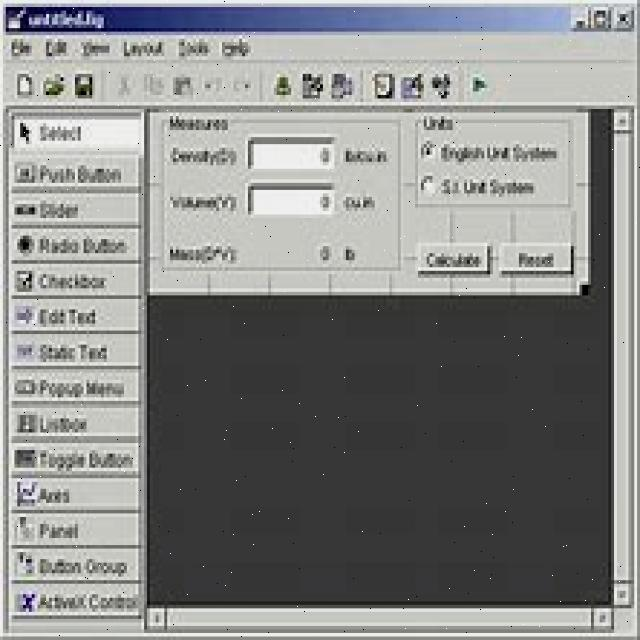button: (8, 147, 142, 192), (5, 330, 143, 368), (7, 508, 142, 546), (7, 580, 142, 617), (6, 546, 142, 582), (7, 474, 142, 510), (5, 367, 143, 402), (8, 261, 140, 297), (7, 193, 143, 227), (7, 443, 142, 477), (7, 405, 142, 439), (5, 298, 142, 331), (8, 230, 142, 262), (498, 240, 574, 277), (415, 242, 492, 275), (426, 61, 460, 100), (363, 61, 398, 98), (194, 63, 227, 102), (328, 62, 361, 100), (262, 62, 295, 100), (461, 61, 489, 102), (397, 62, 426, 101), (297, 61, 326, 100), (228, 65, 260, 100), (121, 36, 167, 58), (40, 69, 68, 100), (173, 38, 215, 58), (73, 68, 99, 100), (217, 38, 254, 60), (74, 38, 111, 59), (15, 66, 38, 99), (139, 71, 165, 98), (611, 4, 635, 32), (171, 70, 193, 99), (570, 2, 592, 31), (4, 37, 34, 58), (113, 71, 133, 98), (590, 3, 609, 31), (43, 38, 69, 58)
icon: (2, 4, 28, 33)
input: (10, 114, 145, 151), (246, 134, 337, 172), (246, 181, 336, 217)
label: (439, 139, 564, 164), (439, 174, 543, 197), (167, 188, 240, 217), (164, 241, 240, 266), (167, 144, 240, 169), (164, 110, 234, 134), (343, 143, 393, 167), (341, 189, 382, 213), (418, 114, 458, 133)
menu: (1, 34, 640, 110)
radio: (420, 139, 437, 162), (420, 172, 434, 195)
slider: (143, 602, 616, 632), (610, 107, 635, 608)
